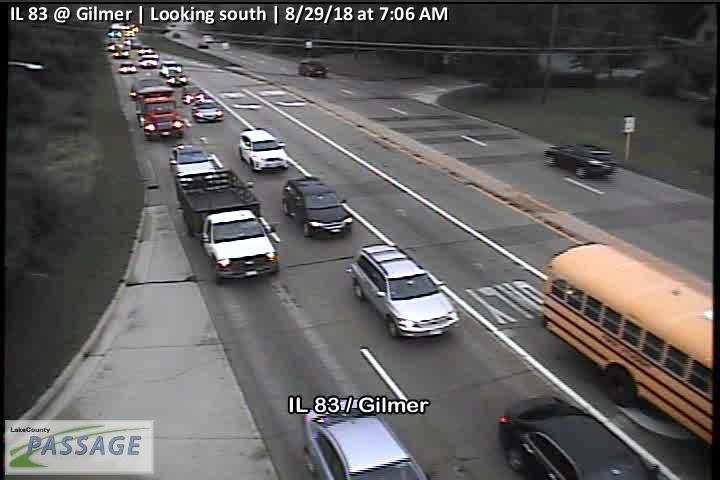Bus: (540, 241, 720, 449)
SUV: (344, 242, 459, 340), (281, 176, 355, 240), (544, 141, 616, 181), (238, 129, 288, 174), (299, 61, 329, 81)
Sedan: (497, 394, 659, 480), (303, 398, 429, 480), (168, 142, 216, 187), (191, 99, 225, 123)
Truck: (173, 167, 281, 286), (134, 85, 185, 143)
